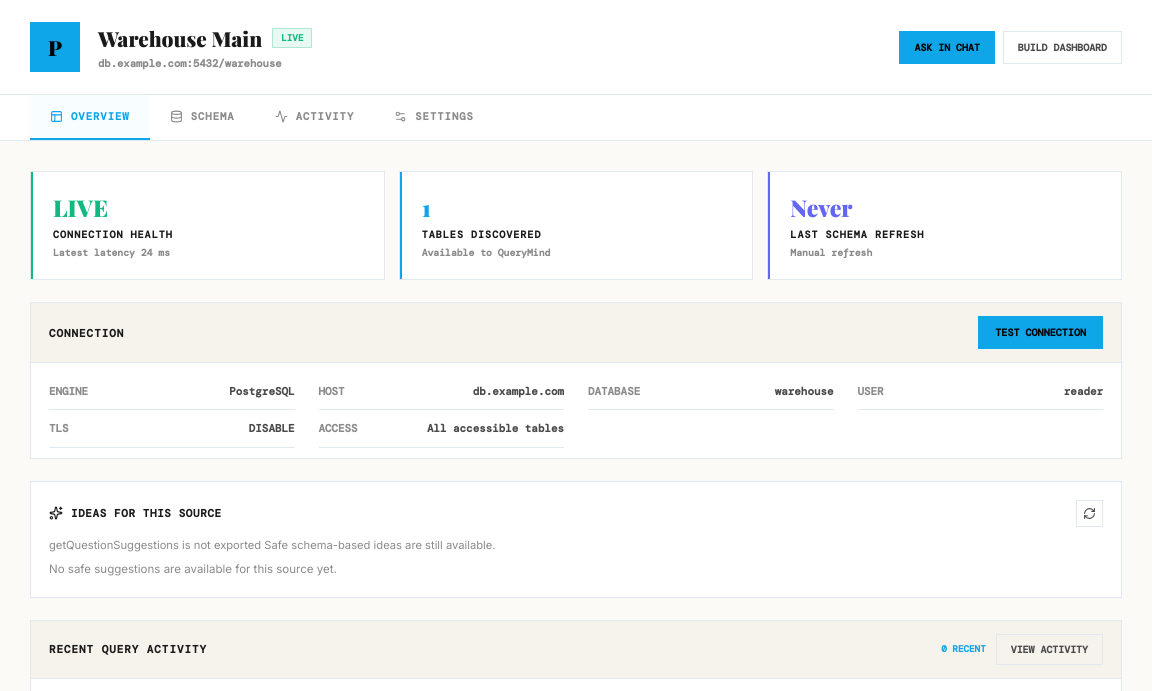
connection detail states › tests saved credentials from the simplified overview
The width and height of the screenshot is (1152, 691).
Click the button "TEST CONNECTION" at (1041, 332), box [978,316,1103,349]
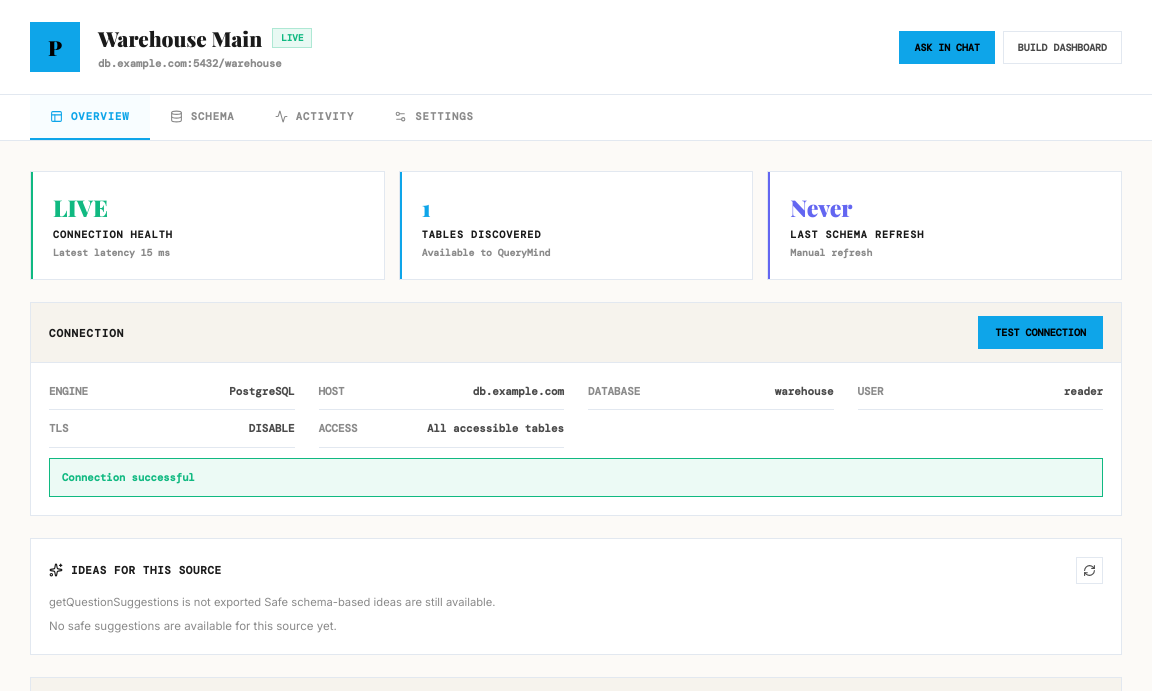
Expected: the text "Connection successful" is shown, [49,458,1103,497]
